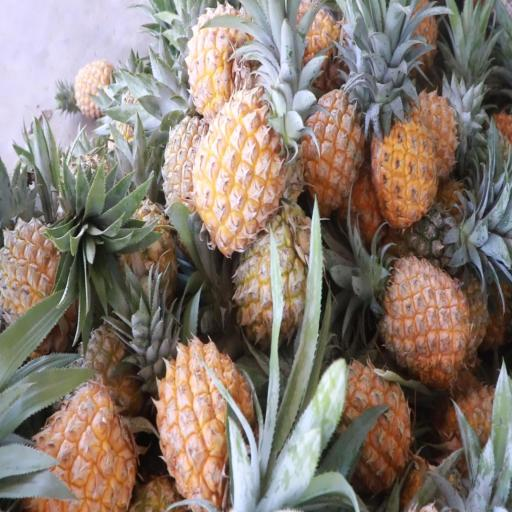------------------------------: (236, 220, 319, 350)
Pineapple - v8 v1: (159, 343, 253, 504), (18, 383, 133, 512), (196, 98, 283, 248), (329, 367, 410, 492), (381, 259, 469, 374), (302, 86, 367, 208), (371, 110, 436, 225), (188, 12, 254, 117)
